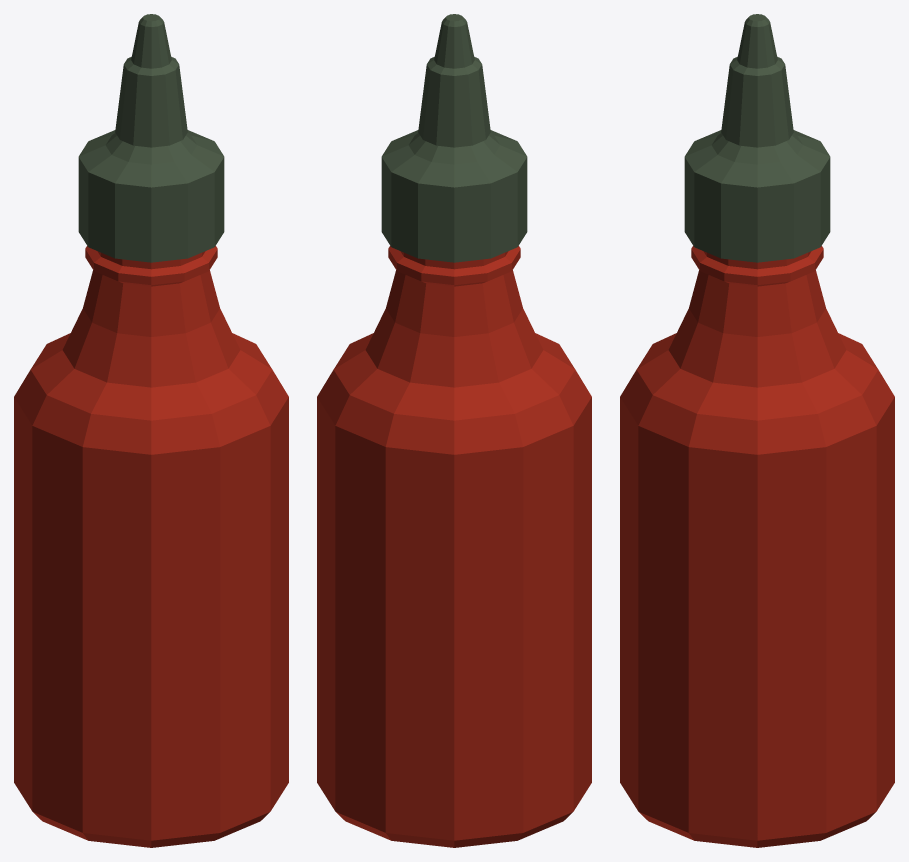
File: Ketchup_1.fbx
3 renders of one model, left to right at view 1: azimuth 30°, elevation 25°; view 2: azimuth 150°, elevation 25°; view 3: azimuth 270°, elevation 25°, orthographic.
Visible parts, largest first — view 1: Ketchup_1; view 2: Ketchup_1; view 3: Ketchup_1.
Part boxes in pixels (<box>): Ketchup_1: <box>14,14,288,847</box>; Ketchup_1: <box>317,14,591,847</box>; Ketchup_1: <box>620,14,894,847</box>.
Bounding box in the file's own units: 12.49 × 38.96 × 12.49.
